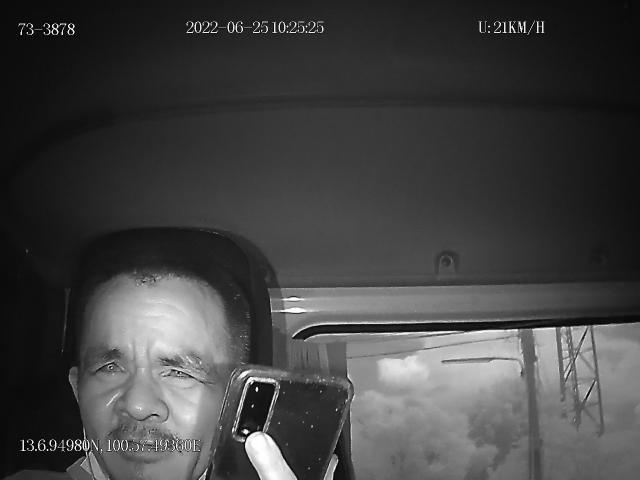PhoneUse: (211, 362, 355, 480)
SafeDriving: (154, 352, 208, 390), (83, 349, 132, 385)
